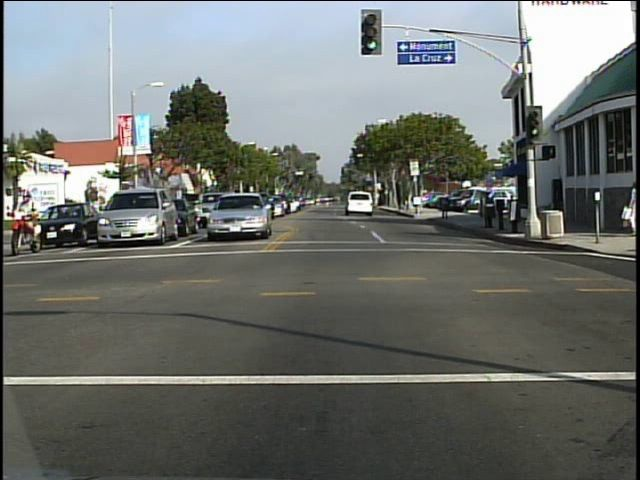person: (7, 185, 43, 256)
